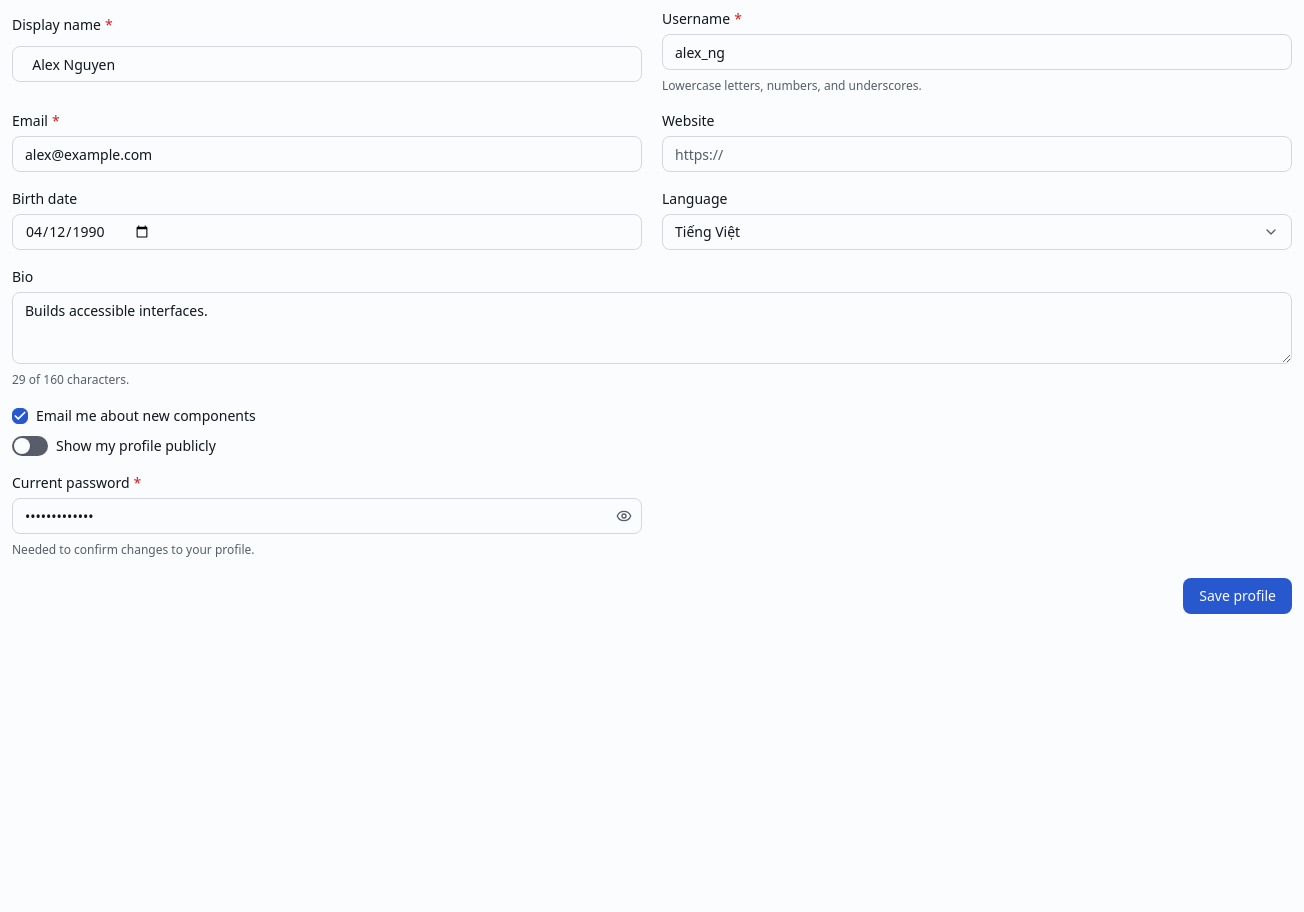
Scenario: ProfileForm › keeps the values and reports a generic error when saving fails
The image size is (1304, 912).
Click the button "Save profile": {"x": 1238, "y": 596} [1183,578,1292,614]
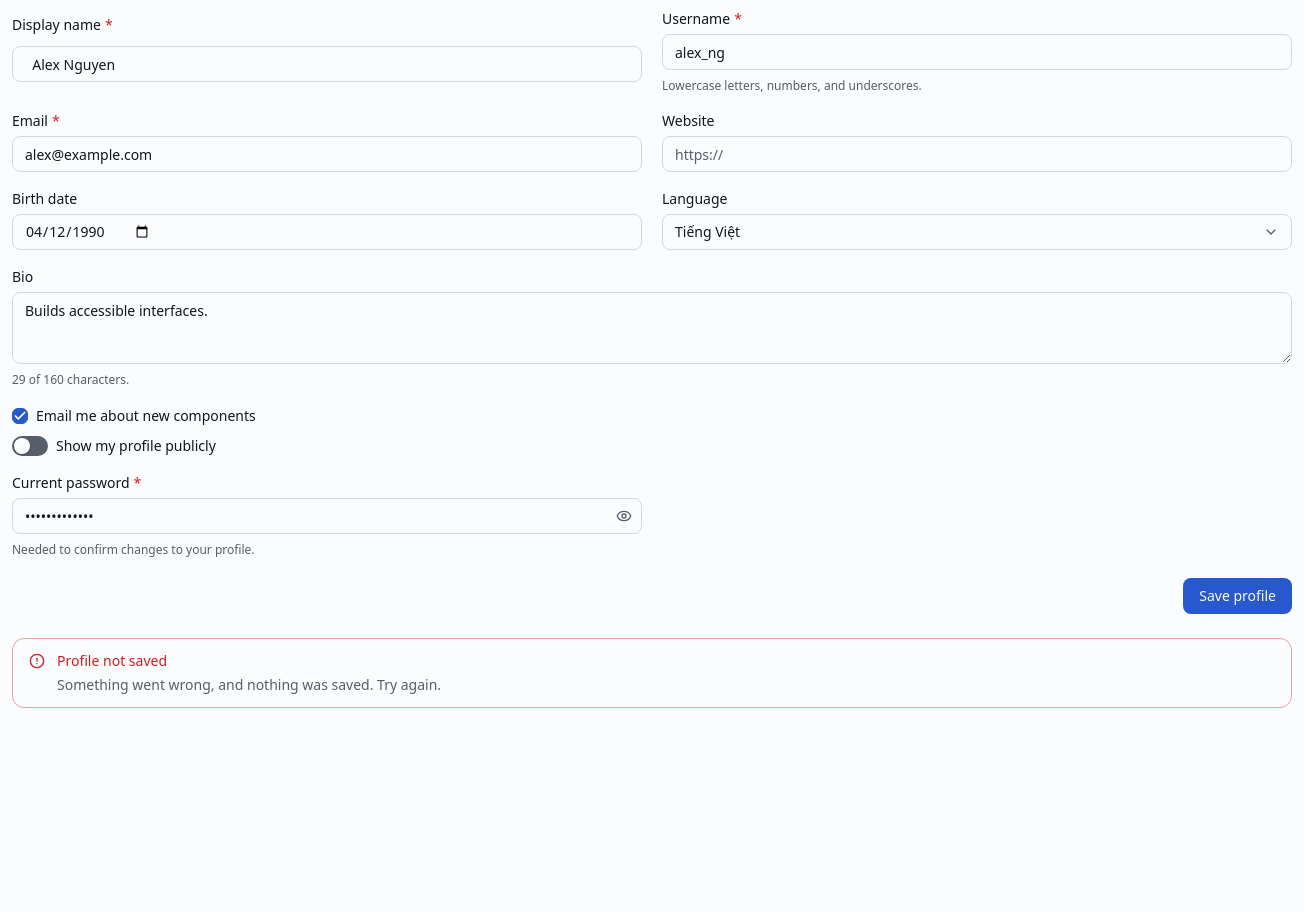
Expected: the field labelled "Username" holds "alex_ng", [662,34,1292,70]
Now the message shows "Something went wrong, and nothing was saved. Try again.", box [57,675,441,694]
